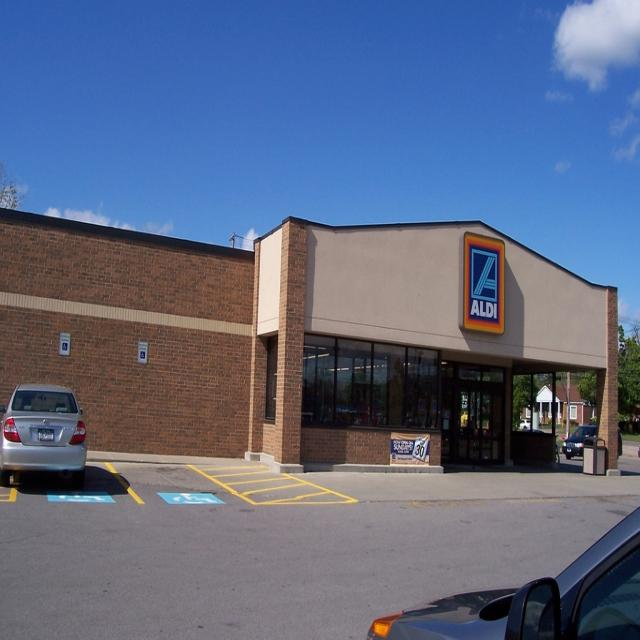aldi: (464, 232, 508, 334)
